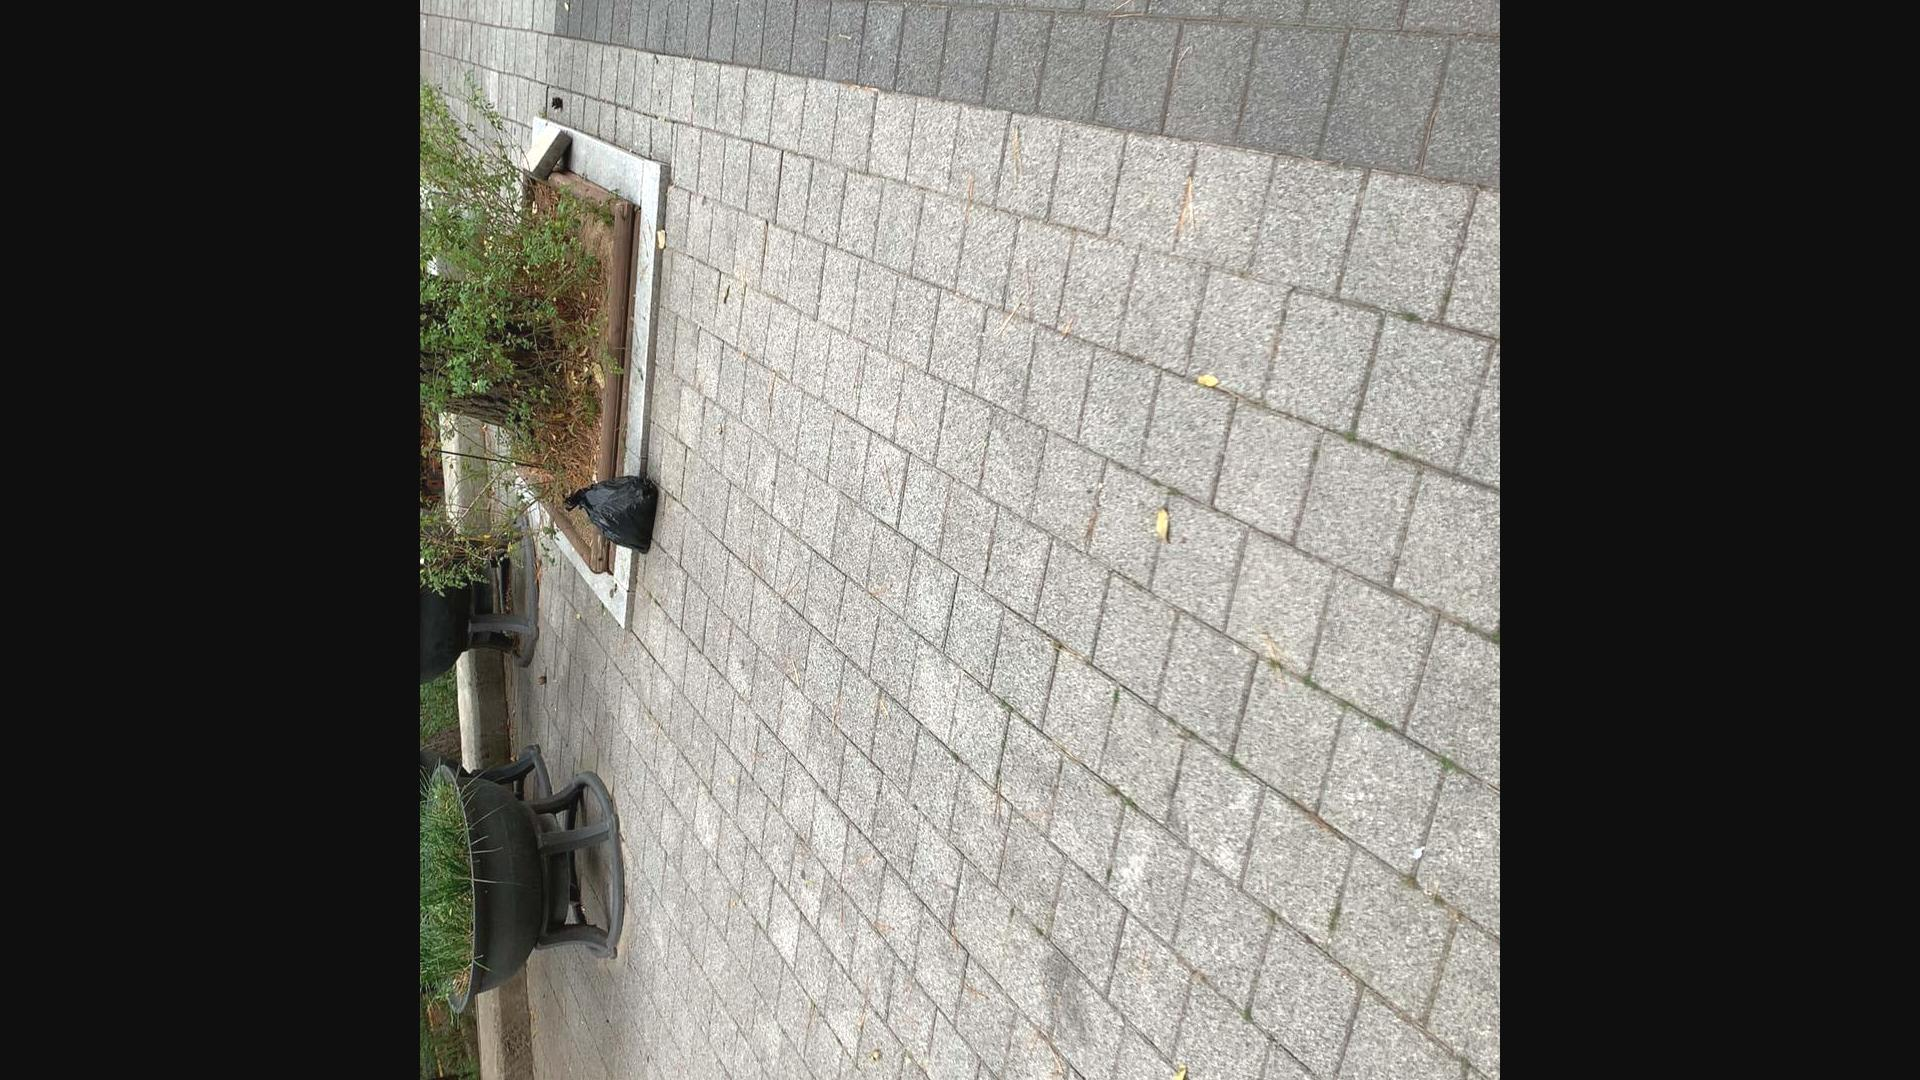black_bag: (560, 471, 663, 563)
